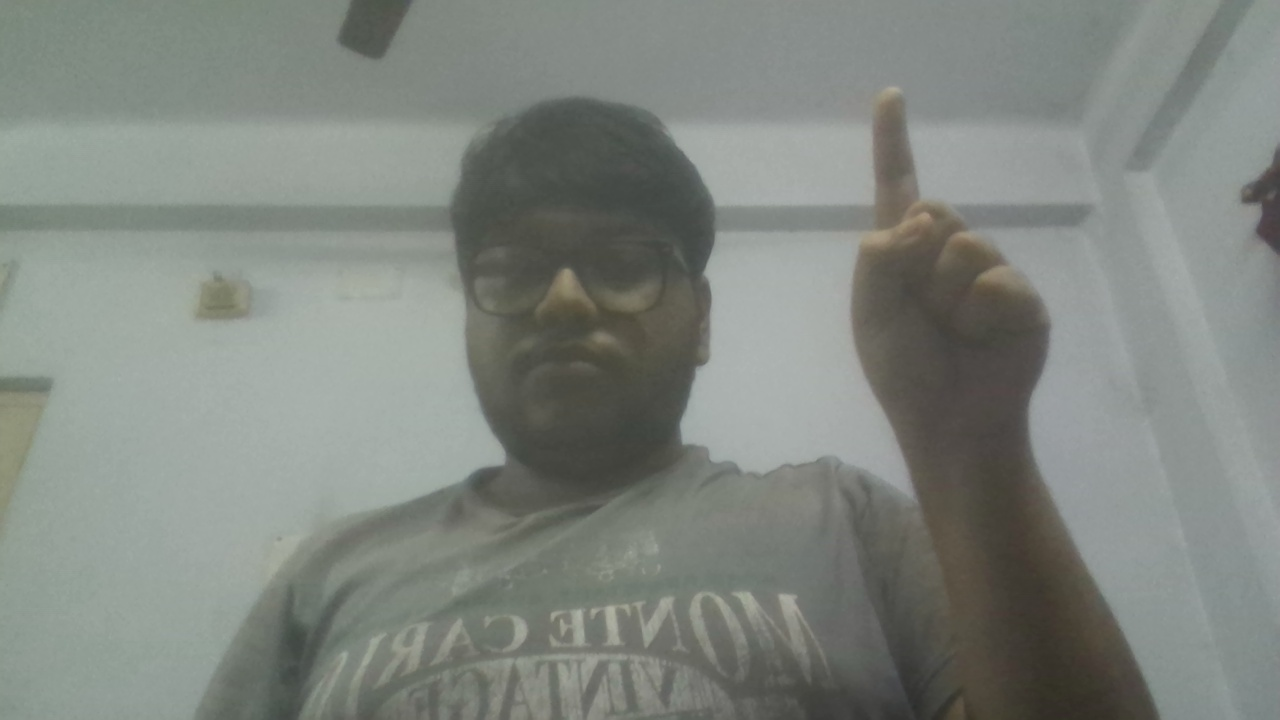Gesture1: (840, 76, 1066, 465)
